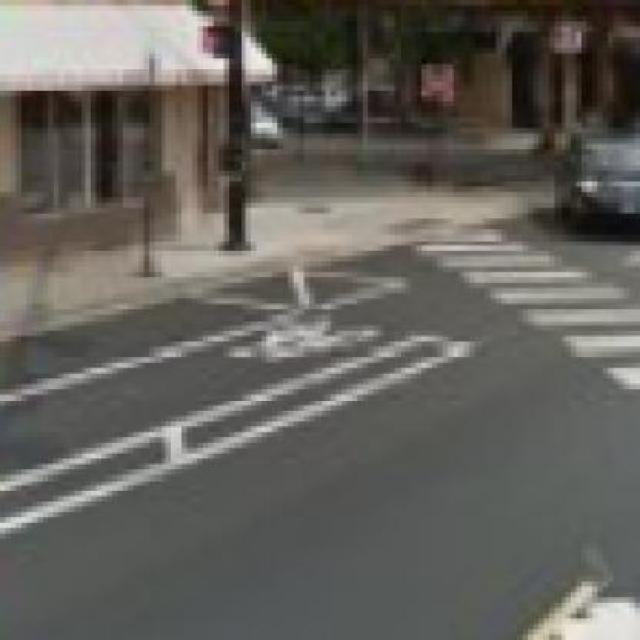crosswalk: (415, 224, 640, 401)
